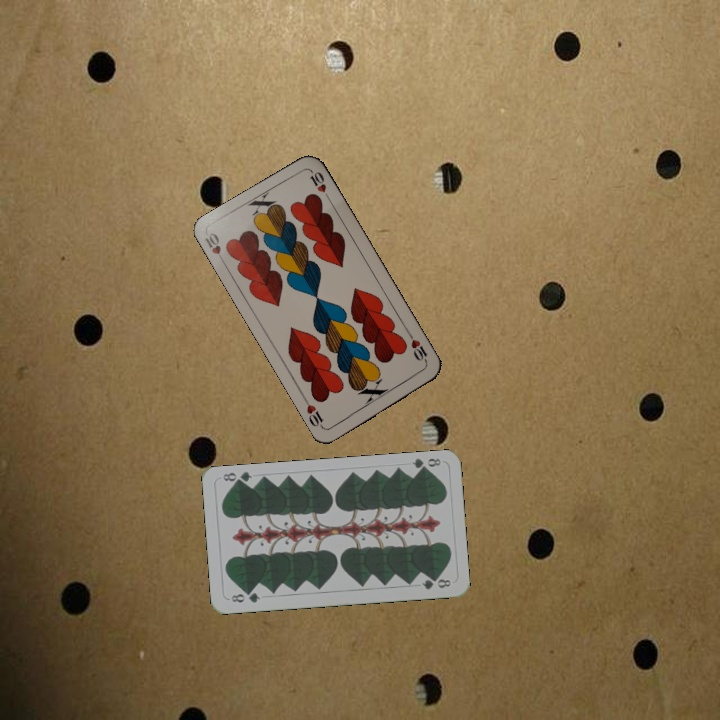G8: (408, 454, 443, 474), (227, 588, 262, 605)
H10: (201, 229, 228, 267), (404, 330, 430, 367)
